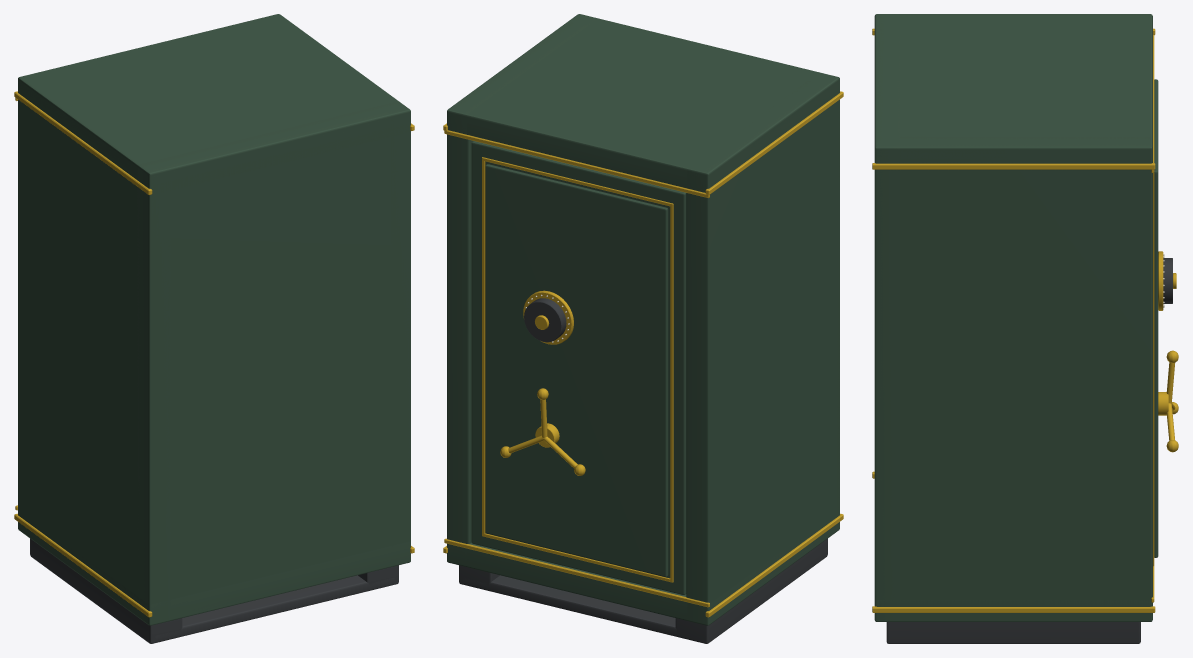
File: prop_safe_large.glb
The picture shows the model from 3 angles, left to right: view 1: azimuth 30°, elevation 25°; view 2: azimuth 150°, elevation 25°; view 3: azimuth 270°, elevation 25°; orthographic projection. The views are drawn at different scales.
Parts seen in each view (by area): view 1: Body; view 2: Body, DoorMesh; view 3: Body, DoorMesh.
Boxes of the visible parts, x1,y1,x2,y2 form: Body: (14,14,414,643); Body: (443,14,843,643); DoorMesh: (471,141,686,594); Body: (872,14,1155,643); DoorMesh: (1153,79,1178,566).
Bounding box in the file's own units: 0.812 × 1.39 × 0.7712.
